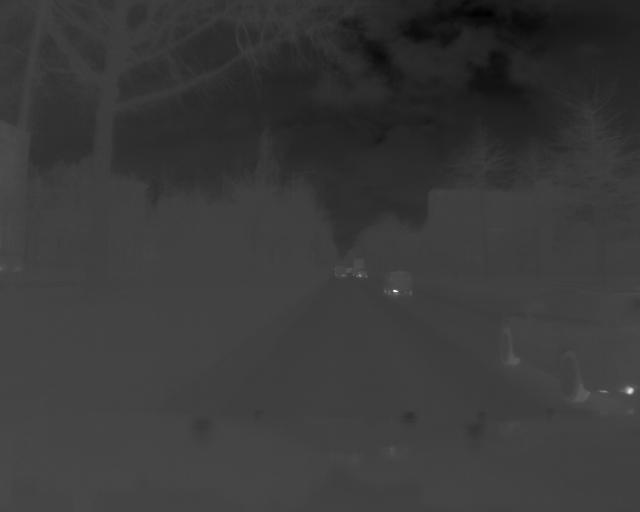car: (504, 277, 640, 408), (379, 269, 415, 297)
